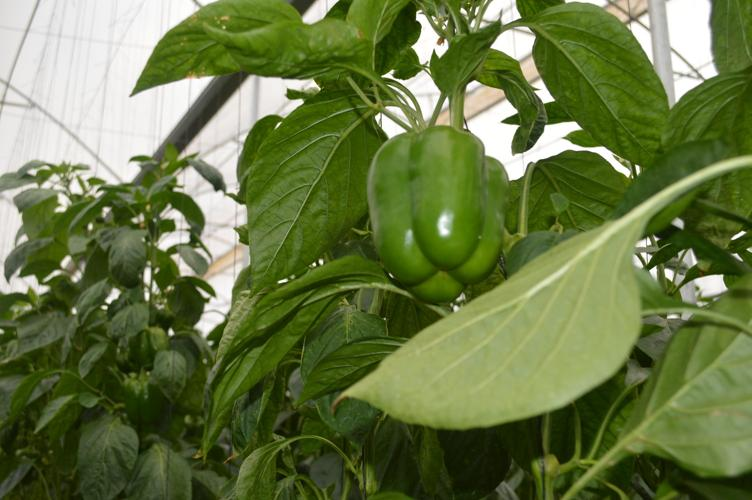BellPepper: (363, 125, 509, 304), (119, 374, 162, 426), (118, 329, 171, 368)
